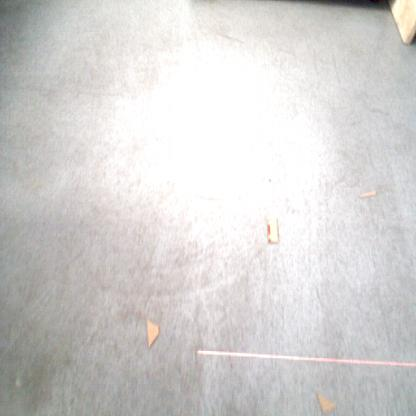dirty: (315, 390, 338, 415), (146, 318, 160, 350), (266, 217, 279, 244), (358, 188, 378, 199)
mark: (214, 30, 245, 44)
